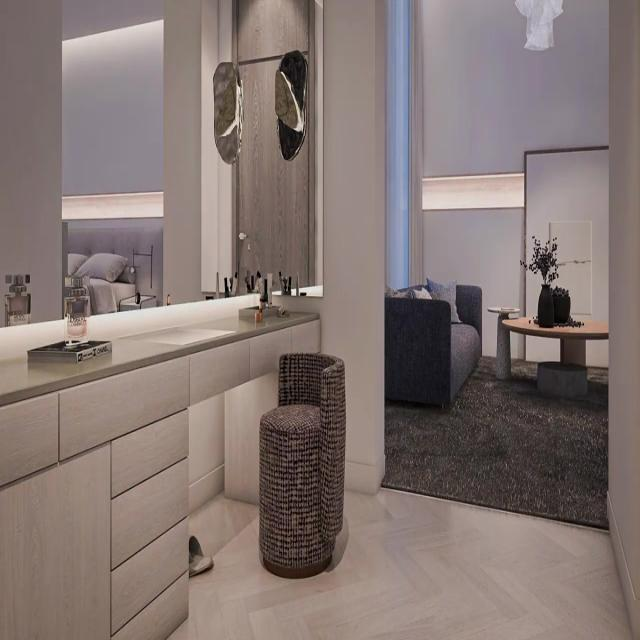obstacle: (258, 351, 346, 579), (384, 279, 482, 412), (501, 314, 608, 400)
